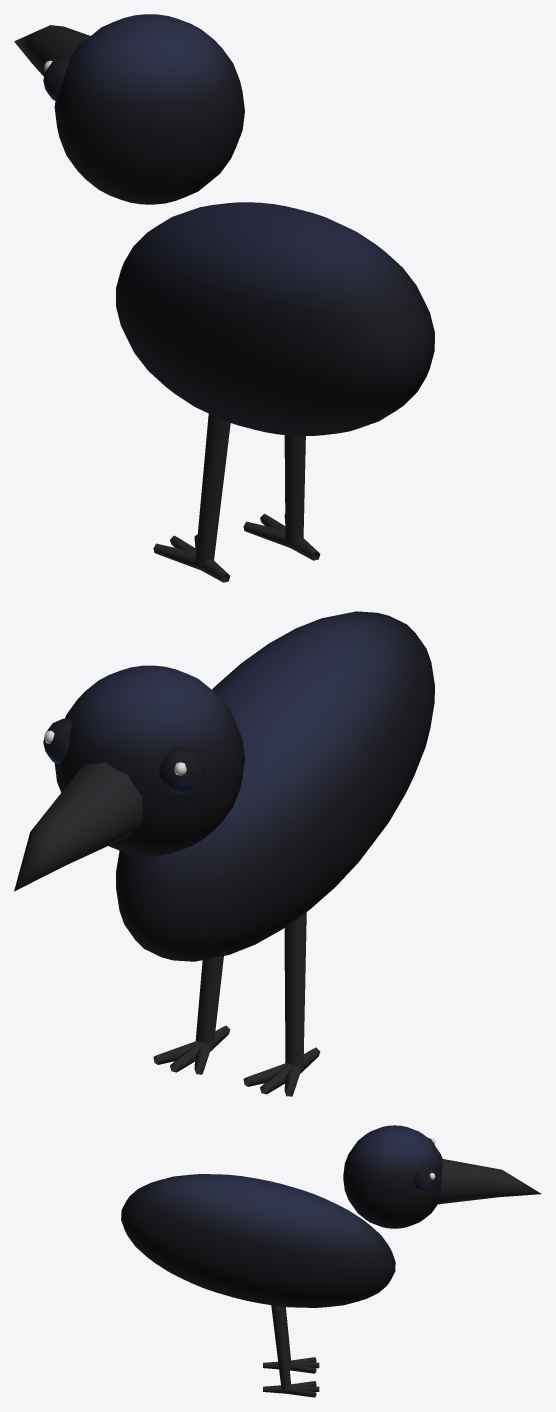
File: Crow_Body.fbx
The picture shows the model from 3 angles, top to bottom: view 1: azimuth 30°, elevation 25°; view 2: azimuth 150°, elevation 25°; view 3: azimuth 270°, elevation 25°; orthographic projection. The views are drawn at different scales.
Parts seen in each view (by area): view 1: Crow_Body; view 2: Crow_Body; view 3: Crow_Body.
Part boxes in pixels (x1,y1,x2,y2): Crow_Body: [14, 14, 434, 582]; Crow_Body: [14, 611, 434, 1096]; Crow_Body: [121, 1125, 541, 1397].
Size of the model in its own units: 4.68 by 10.59 by 20.22.
